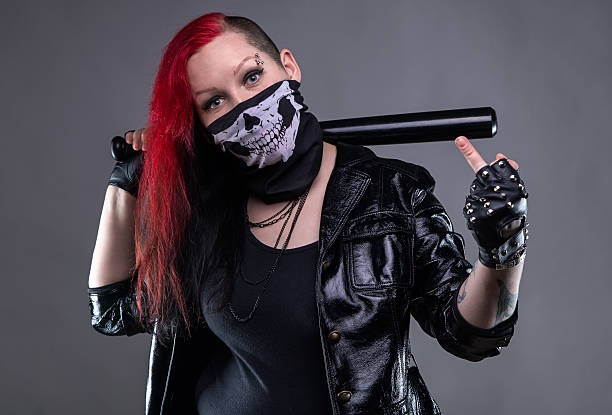bita: (318, 105, 509, 142)
